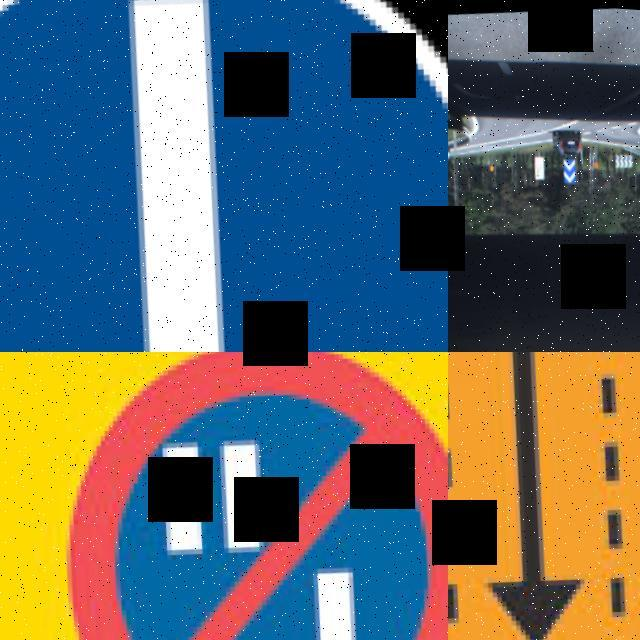64: (448, 352, 640, 640)
82: (0, 352, 448, 640)
Straight ahead: (0, 0, 448, 352)
